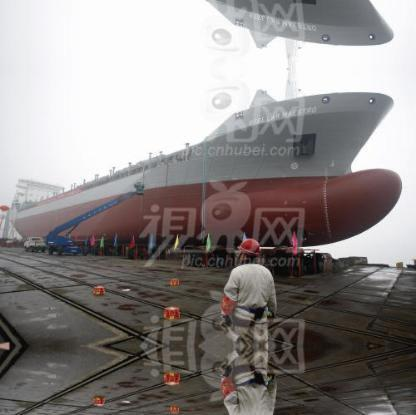helmet: (238, 235, 266, 262)
